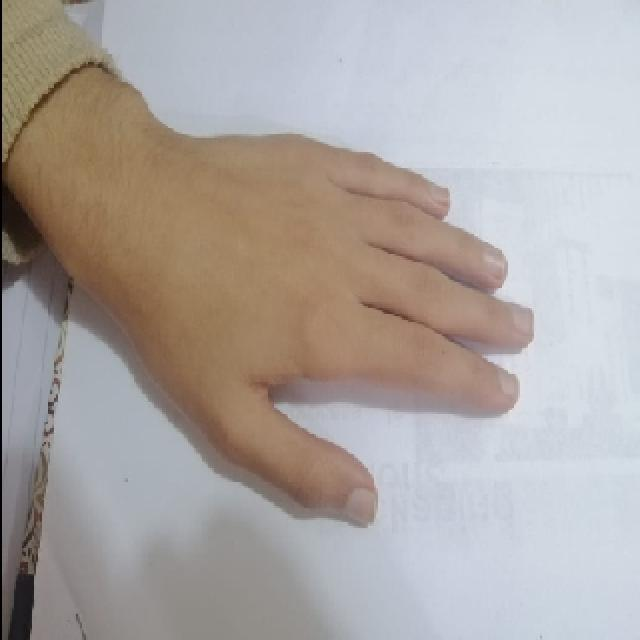Nail: (342, 488, 378, 527), (481, 246, 508, 281), (509, 302, 534, 336), (498, 369, 519, 398), (426, 183, 450, 205)
